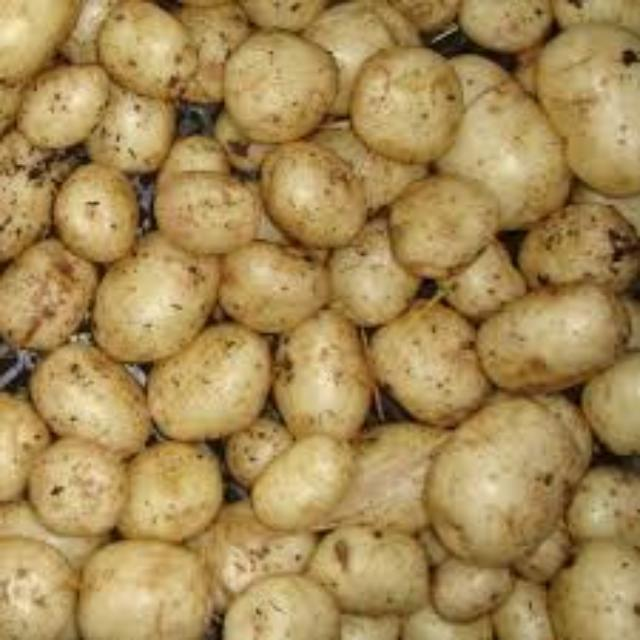Potato: (421, 374, 579, 570), (440, 78, 572, 230), (534, 22, 640, 200), (472, 284, 626, 390), (320, 418, 452, 538), (92, 230, 212, 356), (146, 321, 276, 437), (266, 306, 374, 444), (24, 342, 152, 458), (219, 26, 341, 146), (365, 296, 485, 418), (349, 43, 467, 165), (75, 536, 213, 640), (237, 426, 355, 536), (182, 490, 310, 588), (253, 138, 364, 248), (508, 208, 640, 300), (384, 170, 498, 274), (113, 438, 227, 542), (147, 160, 259, 258), (300, 5, 392, 124), (4, 230, 92, 354), (319, 522, 439, 612), (318, 219, 420, 323), (207, 241, 325, 329), (96, 0, 196, 100), (84, 74, 176, 174), (548, 540, 640, 640), (30, 424, 114, 530), (220, 569, 344, 637), (58, 158, 138, 262), (0, 532, 76, 640), (15, 61, 104, 147), (0, 132, 48, 262), (432, 546, 514, 614), (232, 417, 288, 481)
